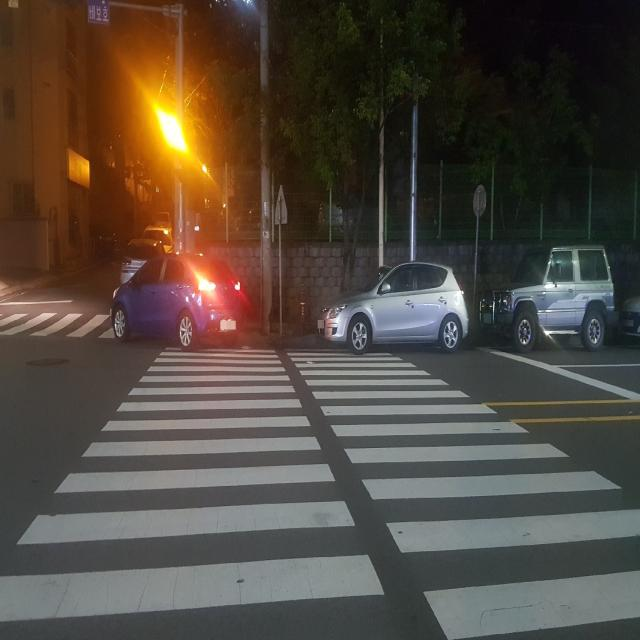횡단보도: (0, 346, 640, 640), (0, 294, 129, 346)
